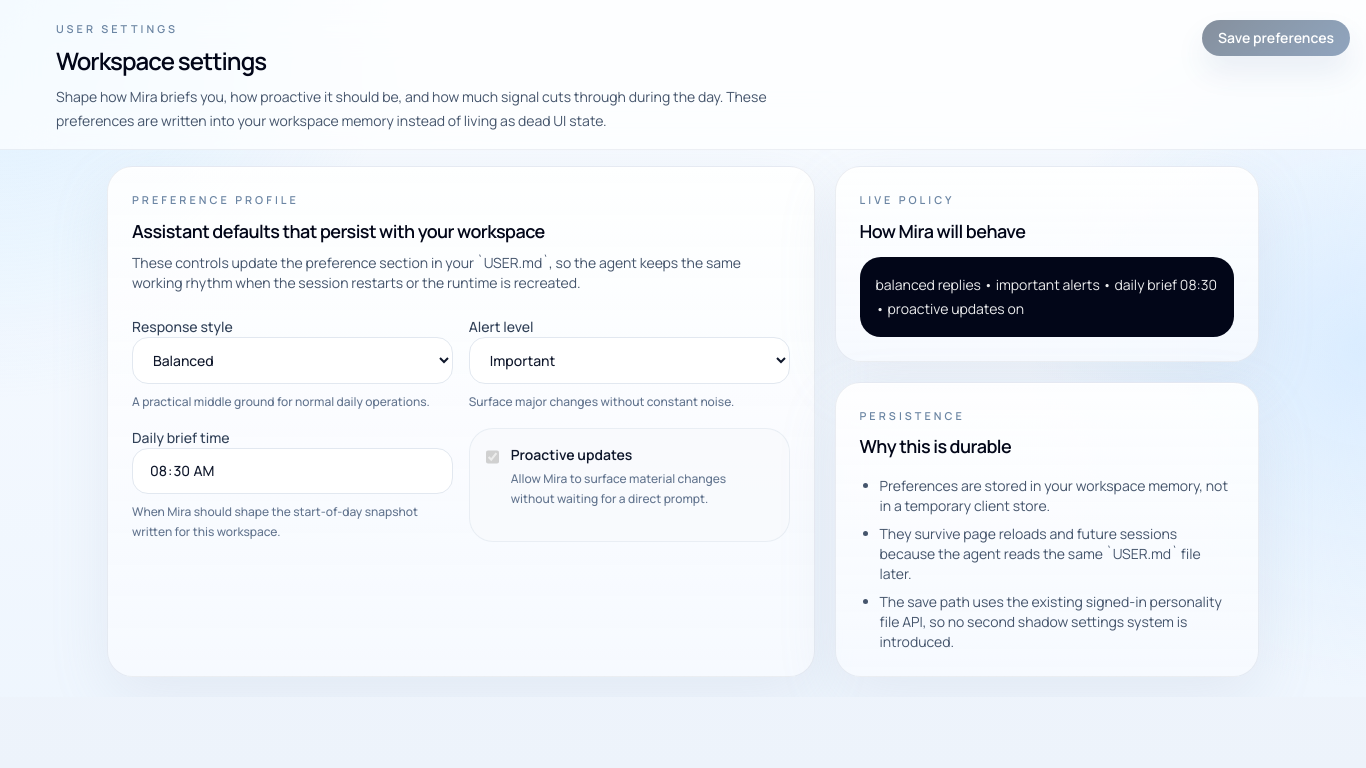
Test: SettingsPage › saves updated settings back into USER.md without dropping existing content
This screenshot has width=1366, height=768.
Step 1. Select "Balanced" in the dropdown labelled "Response style" → (292, 360), box [132,337,453,384]
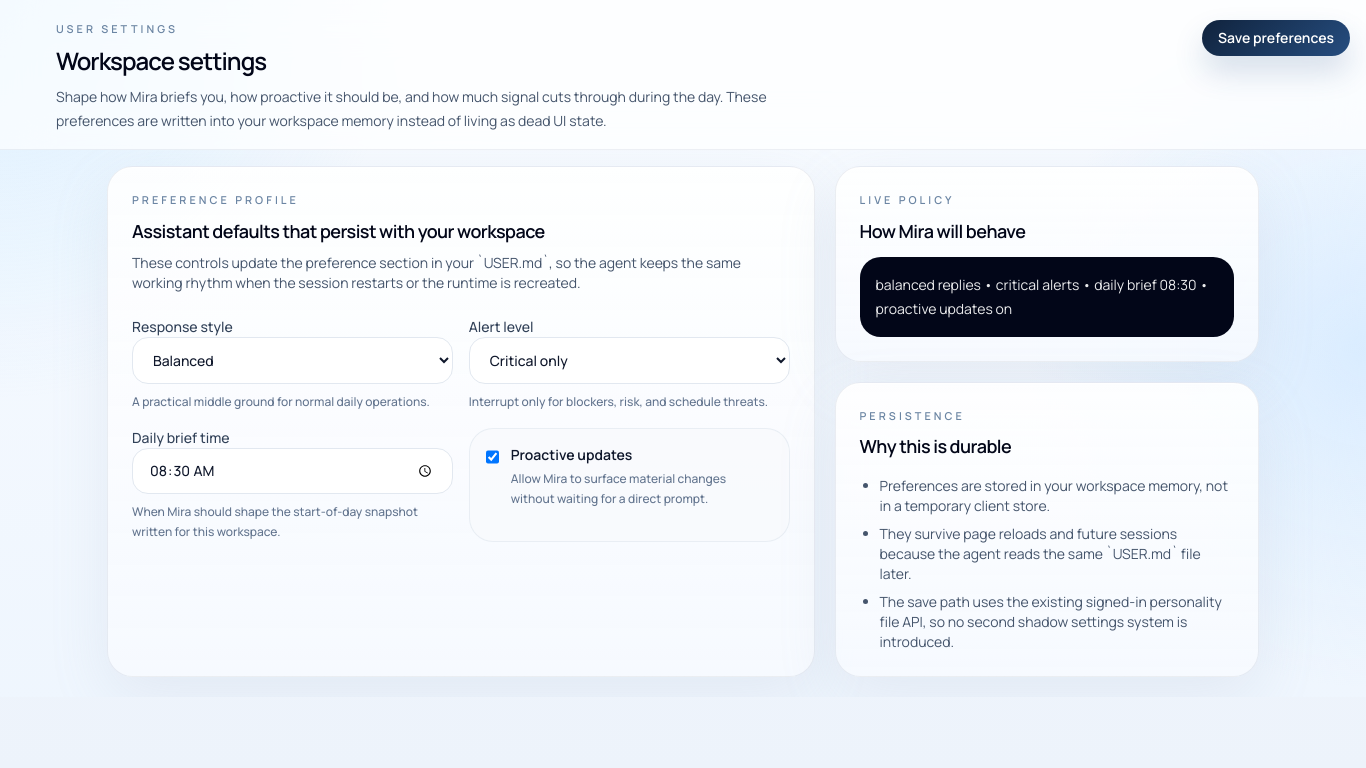
Step 2. Select "Important" in the dropdown labelled "Alert level" → (629, 360), box [469,337,790,384]
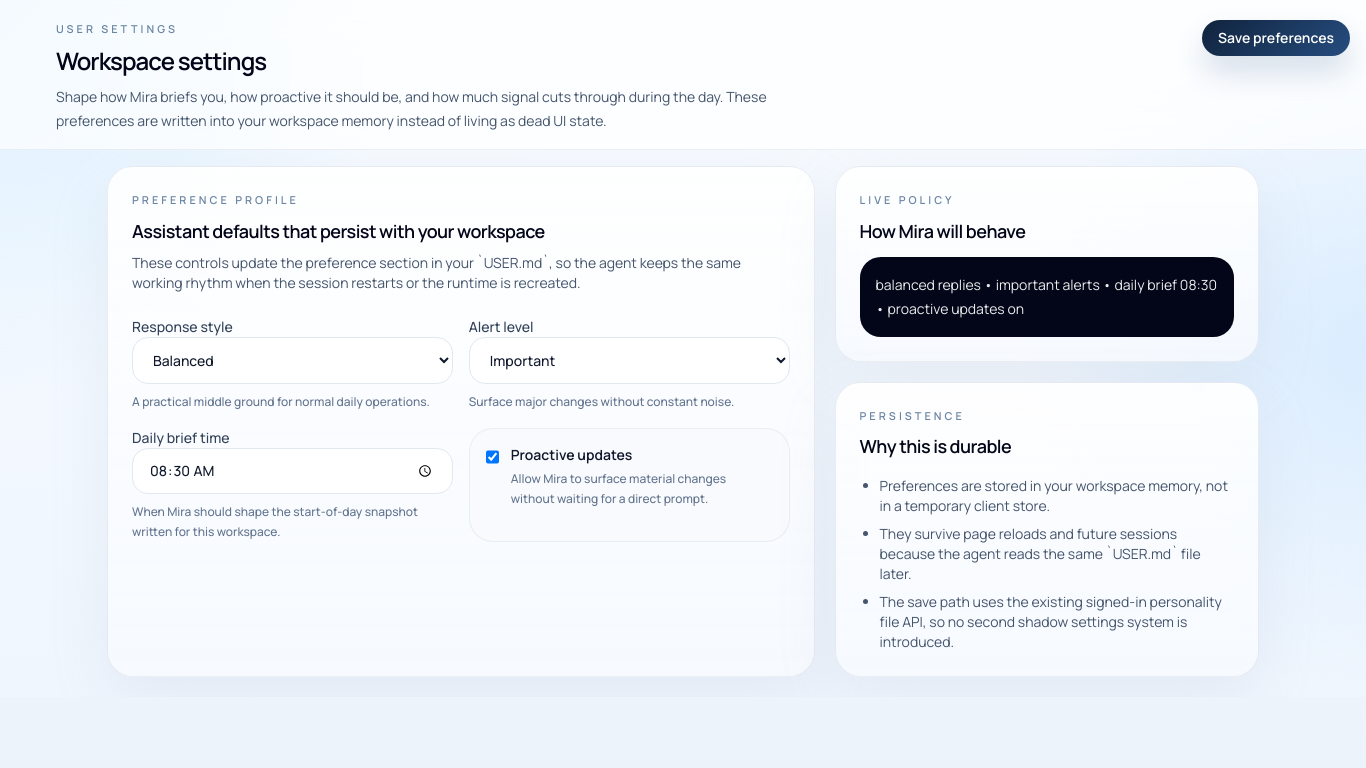
Step 3. Replace the text in the time field labelled "Daily brief time" with "09:15" → (292, 471), box [132,448,453,494]
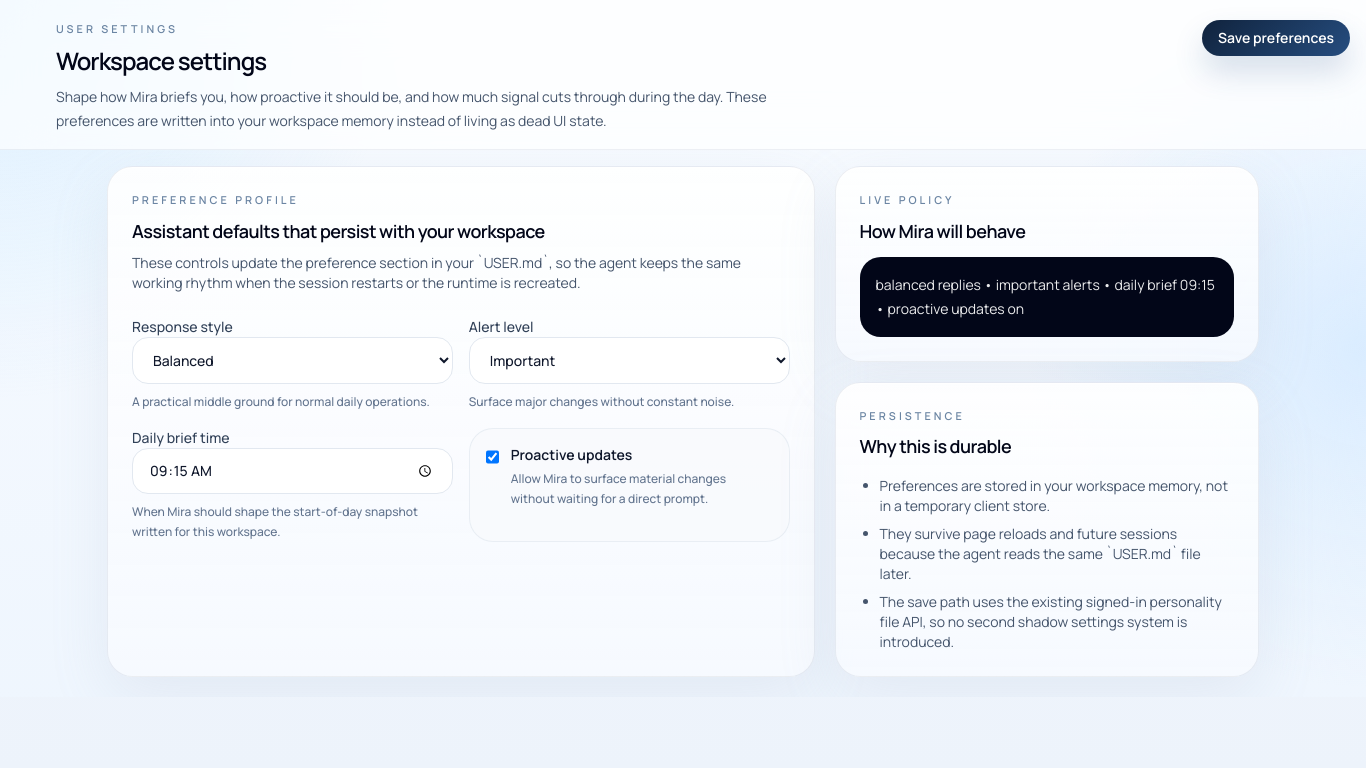
Step 4. Click the checkbox labelled "Proactive updates" → (492, 457), box [486,449,499,465]
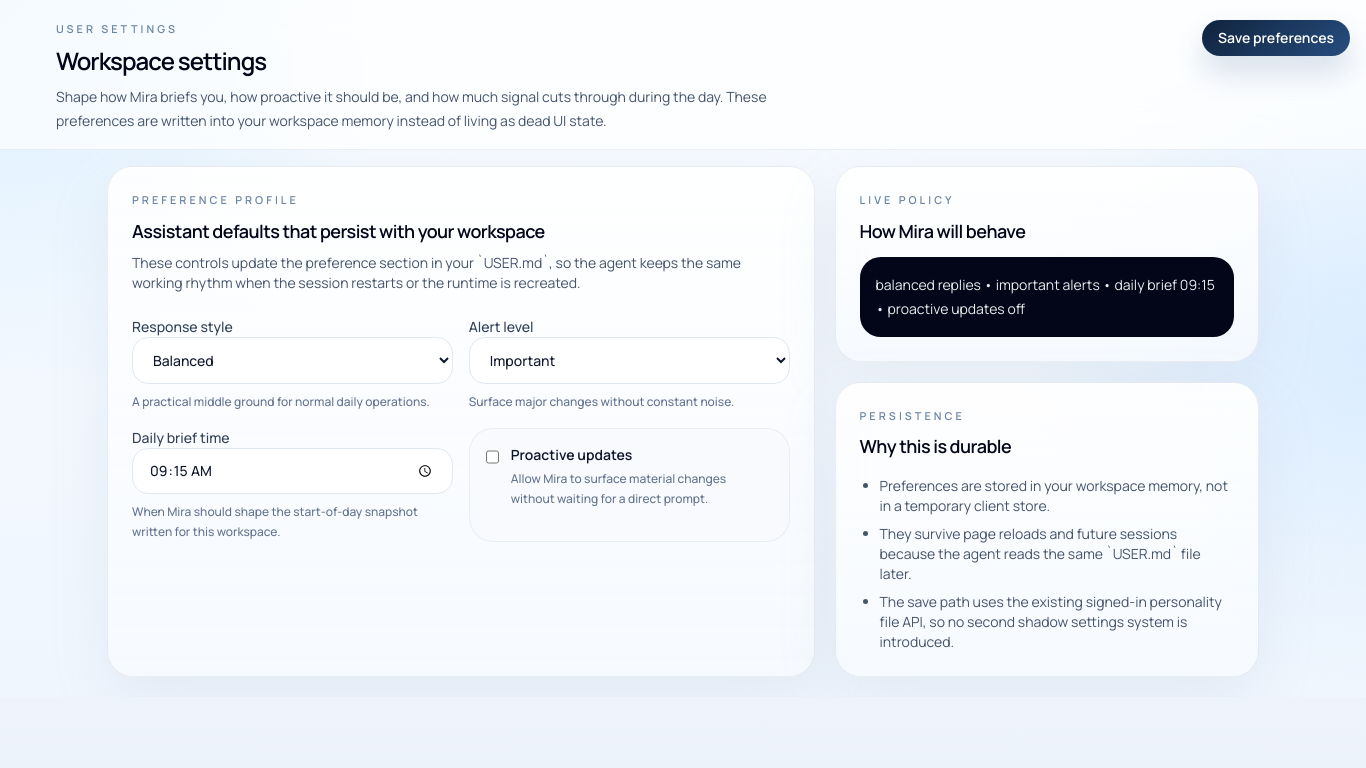
Step 5. Click the button "Save preferences" → (1276, 38), box [1202,20,1350,56]
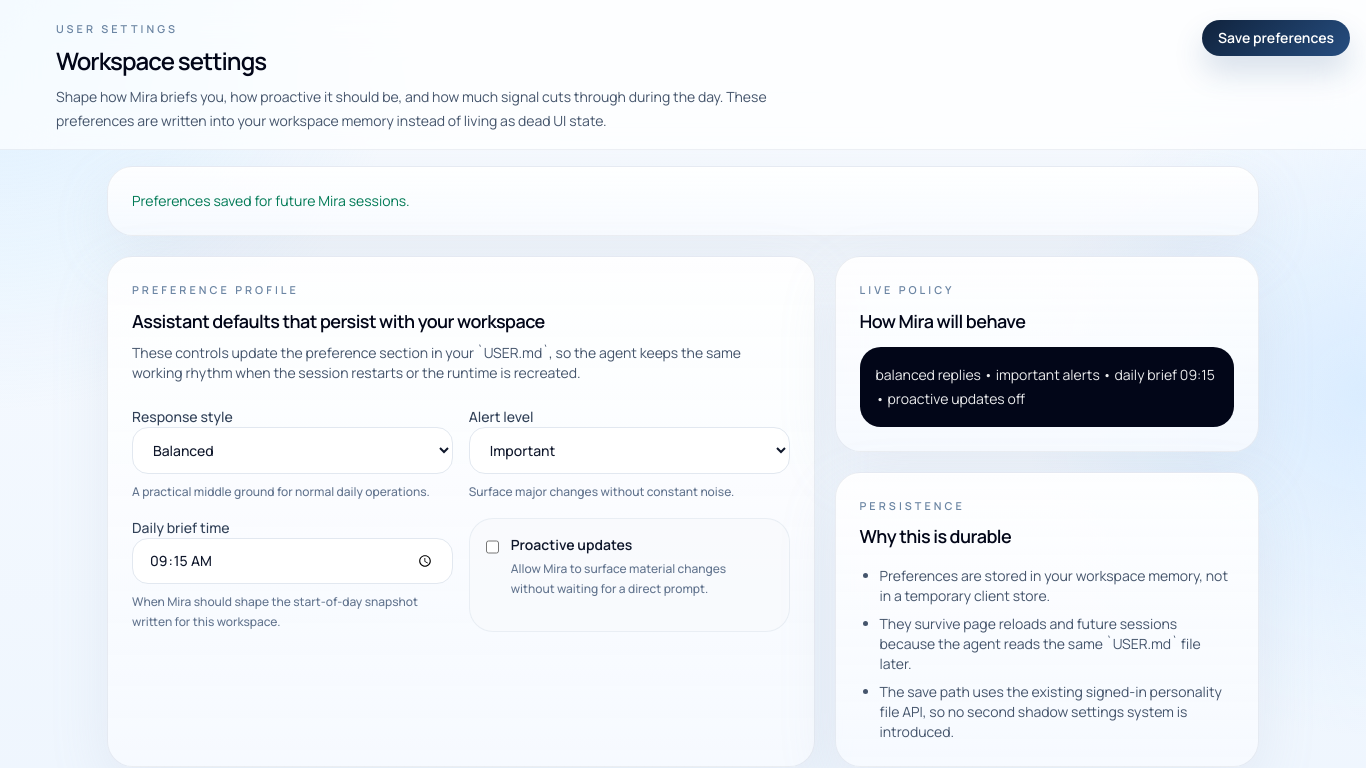
Check: the text "Preferences saved for future Mira sessions." is shown, box [132,191,410,210]
